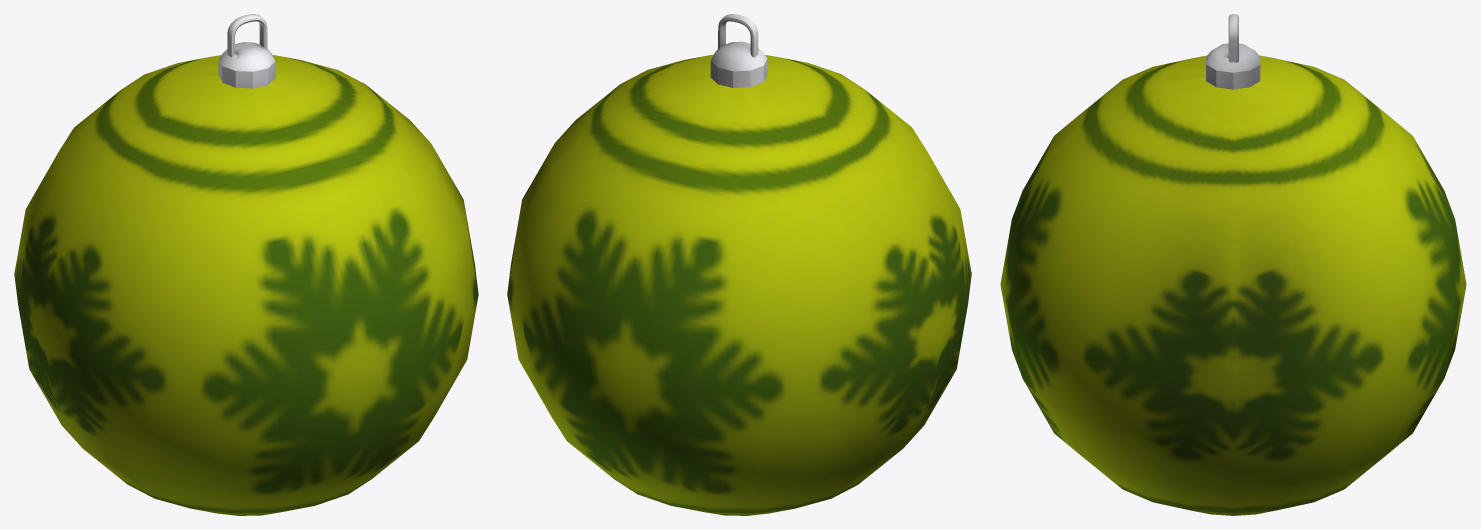
3 renders of one model, left to right at view 1: azimuth 30°, elevation 25°; view 2: azimuth 150°, elevation 25°; view 3: azimuth 270°, elevation 25°, orthographic.
Parts seen in each view (by area): view 1: V5_Christmas Collection6_V5_Christmas Collection_0; view 2: V5_Christmas Collection6_V5_Christmas Collection_0; view 3: V5_Christmas Collection6_V5_Christmas Collection_0.
Part boxes in pixels (x1=…): V5_Christmas Collection6_V5_Christmas Collection_0: x1=14, y1=14, x2=478, y2=515; V5_Christmas Collection6_V5_Christmas Collection_0: x1=507, y1=14, x2=971, y2=515; V5_Christmas Collection6_V5_Christmas Collection_0: x1=1000, y1=14, x2=1466, y2=515.
Bounding box in the file's own units: 37.93 × 43.02 × 37.91.
Materials: 1 (1 with a texture image).
